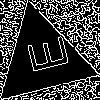E: (18, 33, 70, 78)
